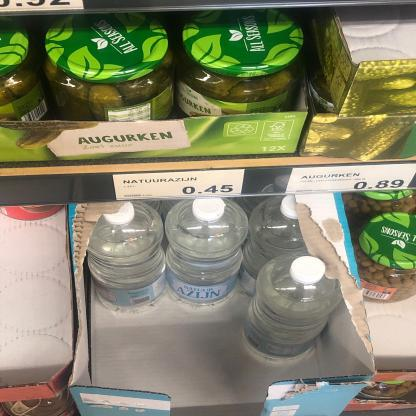prtg: (114, 170, 245, 201), (286, 164, 415, 195)
